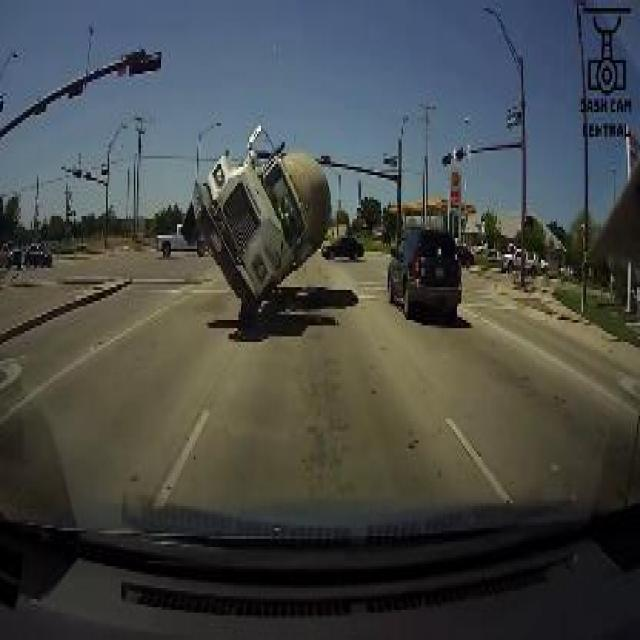accident: (180, 120, 338, 337)
